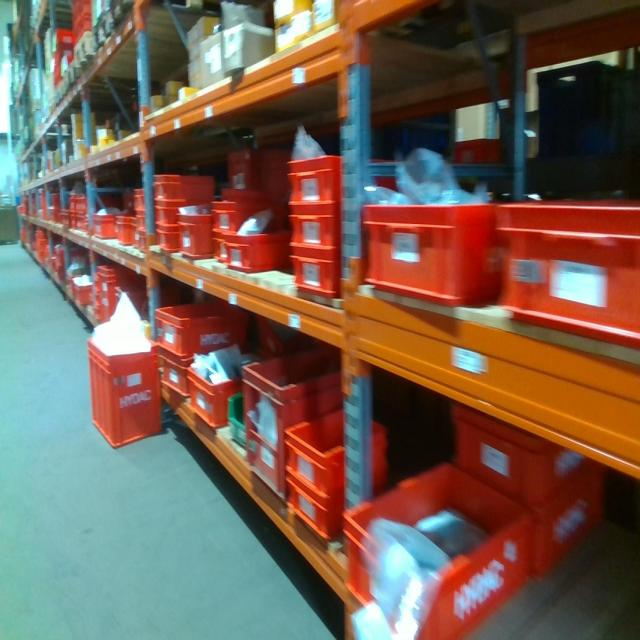pallet: (75, 24, 97, 90), (93, 9, 120, 56), (116, 0, 134, 32), (66, 59, 78, 94)
small_load_carrier: (341, 452, 534, 639), (493, 187, 637, 355), (242, 334, 373, 513), (444, 399, 609, 507), (362, 186, 505, 306), (279, 401, 388, 506), (85, 331, 163, 446), (532, 472, 610, 583), (152, 301, 246, 359), (285, 462, 348, 547), (187, 361, 250, 443), (115, 283, 176, 343), (283, 150, 351, 201), (96, 262, 134, 348), (287, 247, 343, 302), (223, 229, 288, 275), (287, 201, 351, 247), (182, 205, 220, 267), (261, 144, 296, 206), (149, 172, 201, 204), (163, 354, 199, 400), (228, 147, 255, 197), (212, 195, 244, 234), (152, 201, 190, 227), (216, 229, 243, 264), (115, 215, 138, 254), (152, 227, 182, 256), (96, 201, 117, 234), (132, 187, 148, 214), (50, 32, 72, 49), (135, 233, 149, 254), (135, 214, 148, 233)
